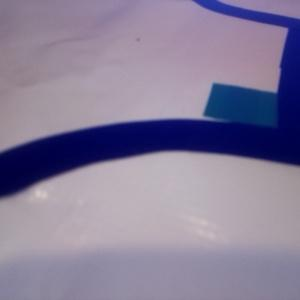top_left: (204, 83, 300, 154)
